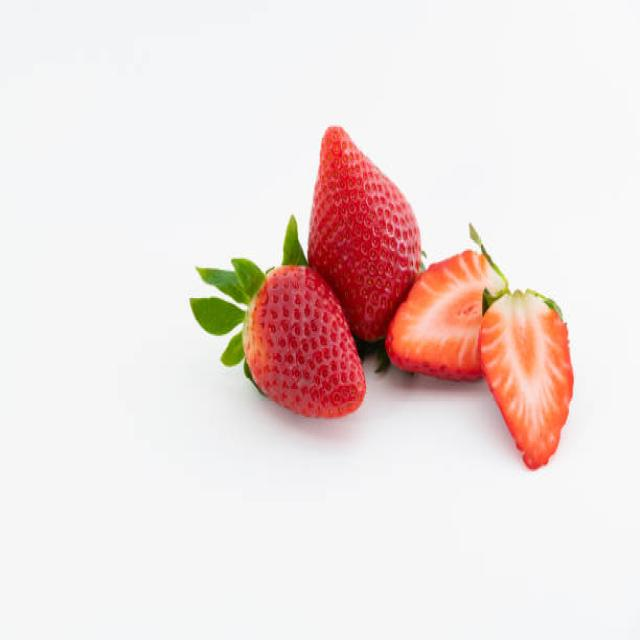Healthy Fruit: (307, 127, 421, 342), (244, 266, 364, 418)
